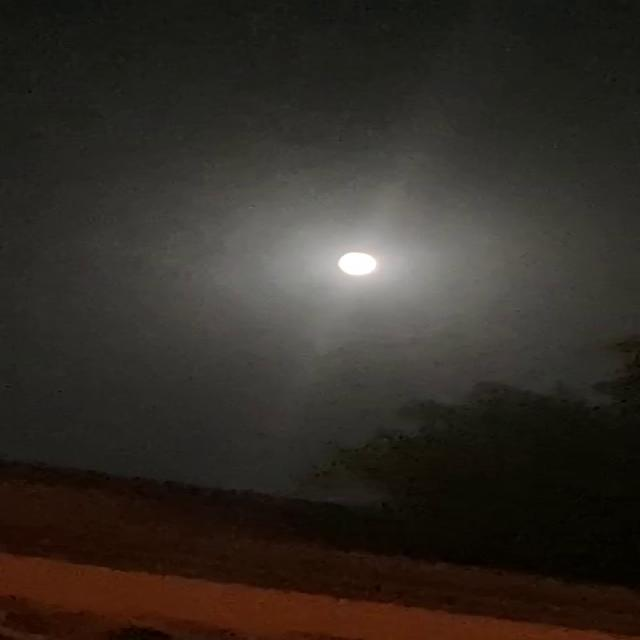moon: (321, 240, 387, 282)
